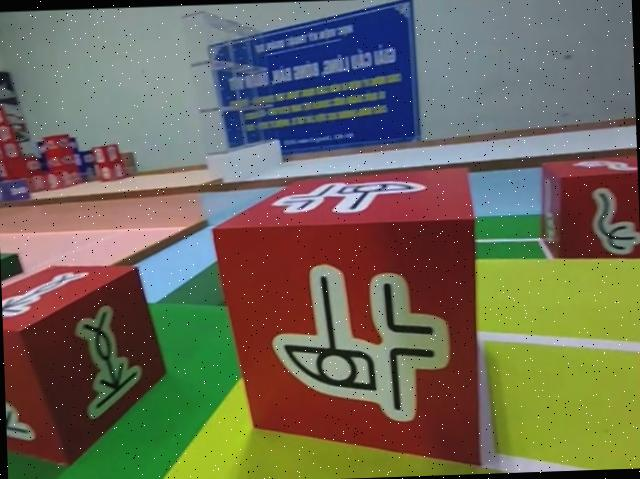R2 Real: (206, 161, 487, 479), (1, 257, 175, 470), (534, 150, 640, 262)
